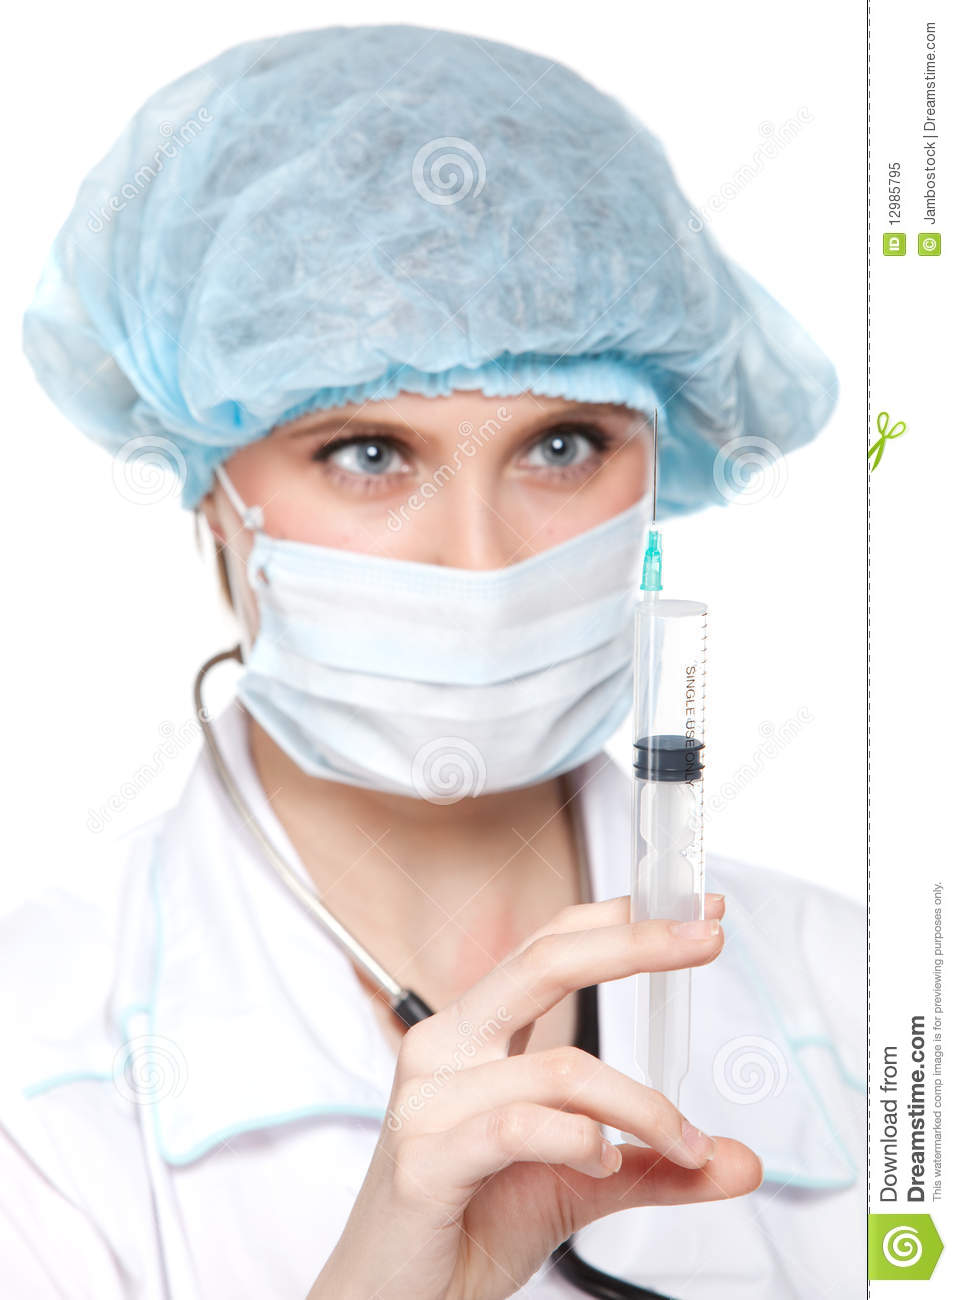mask: (253, 525, 641, 807)
